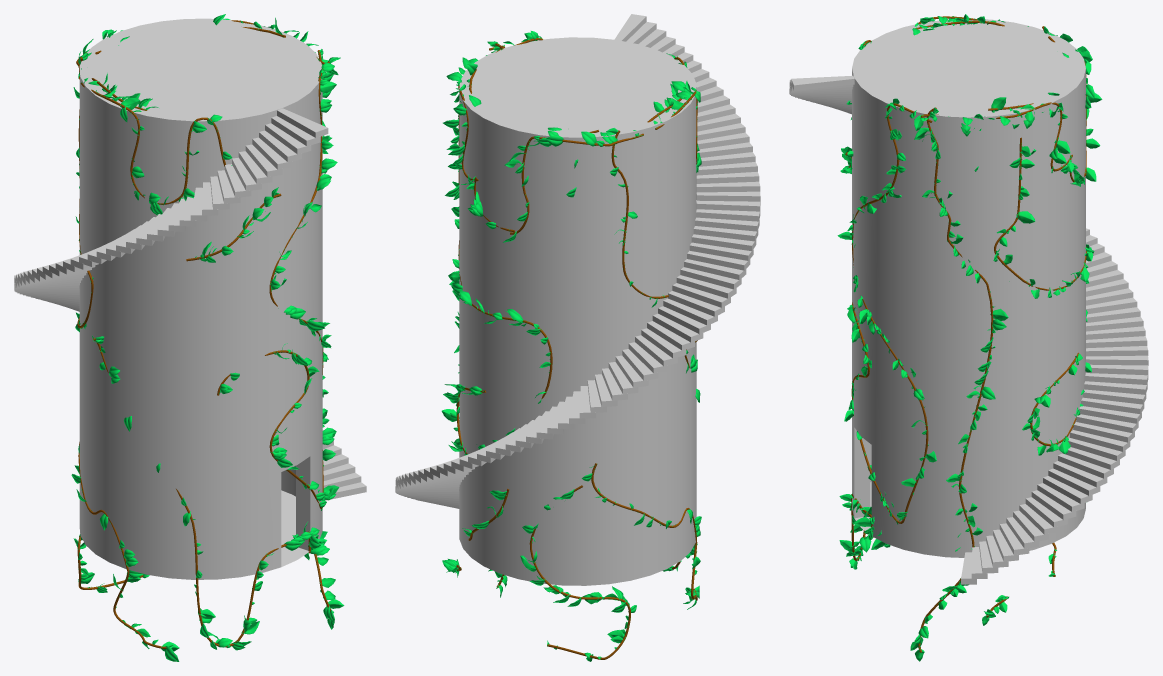
File: Tower.fbx
3 views of the same model, side by side, from view 1: azimuth 30°, elevation 25°; view 2: azimuth 150°, elevation 25°; view 3: azimuth 270°, elevation 25° (orthographic). The views are drawn at different scales.
Parts seen in each view (by area): view 1: Tower, Leafs, Vine; view 2: Tower, Leafs, Vine; view 3: Tower, Leafs, Vine.
Boxes of the visible parts, left/top/right/bottom form: Tower: left=14, top=18, right=366, bottom=579; Leafs: left=71, top=14, right=344, bottom=661; Vine: left=76, top=20, right=330, bottom=648; Tower: left=395, top=14, right=760, bottom=585; Leafs: left=441, top=31, right=701, bottom=661; Vine: left=456, top=38, right=697, bottom=659; Tower: left=789, top=19, right=1148, bottom=584; Leafs: left=837, top=14, right=1102, bottom=661; Vine: left=845, top=16, right=1086, bottom=652.
Size of the model in its own units: 307 by 528 by 307.
